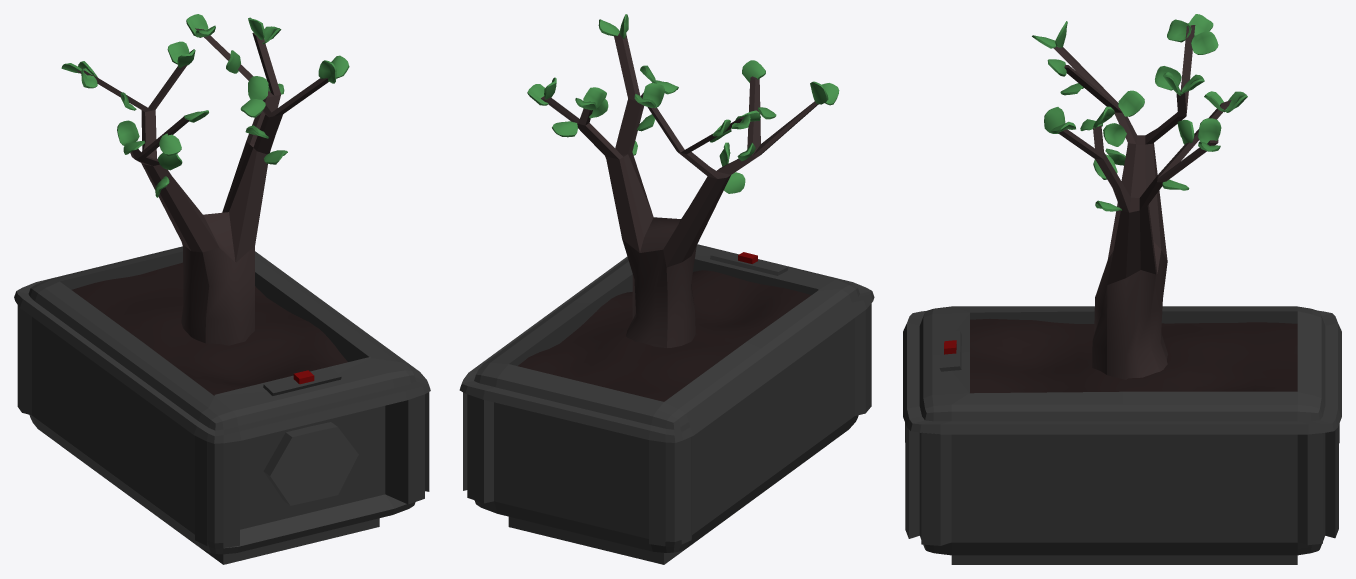
3 renders of one model, left to right at view 1: azimuth 30°, elevation 25°; view 2: azimuth 150°, elevation 25°; view 3: azimuth 270°, elevation 25°, orthographic. The views are drawn at different scales.
Visible parts, largest first — view 1: Botanical_Table, pasted__pCube28, Soil; view 2: Botanical_Table, pasted__pCube28, Soil; view 3: Botanical_Table, pasted__pCube28, Soil.
Part boxes in pixels (<box>): Botanical_Table: <box>14,246,430,564</box>; pasted__pCube28: <box>61,14,349,345</box>; Soil: <box>72,262,347,395</box>; Botanical_Table: <box>459,244,874,564</box>; pasted__pCube28: <box>527,14,839,347</box>; Soil: <box>518,270,811,401</box>; Botanical_Table: <box>903,306,1341,564</box>; pasted__pCube28: <box>1032,14,1247,379</box>; Soil: <box>970,319,1297,393</box>.
Bounding box in the file's own units: 22.02 × 36.58 × 31.93.
